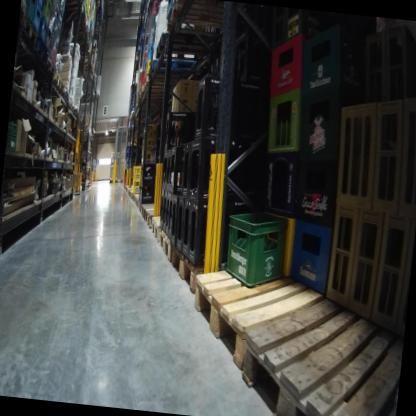pallet: (181, 249, 334, 390), (238, 293, 405, 416), (73, 51, 214, 99), (154, 20, 251, 70), (165, 240, 234, 303), (161, 3, 244, 42), (146, 59, 222, 90), (155, 231, 184, 265), (23, 16, 47, 50), (132, 198, 157, 225), (42, 47, 62, 75), (149, 213, 166, 244), (140, 207, 156, 232), (32, 34, 47, 52), (54, 75, 67, 93), (46, 75, 62, 88), (64, 89, 72, 102)
